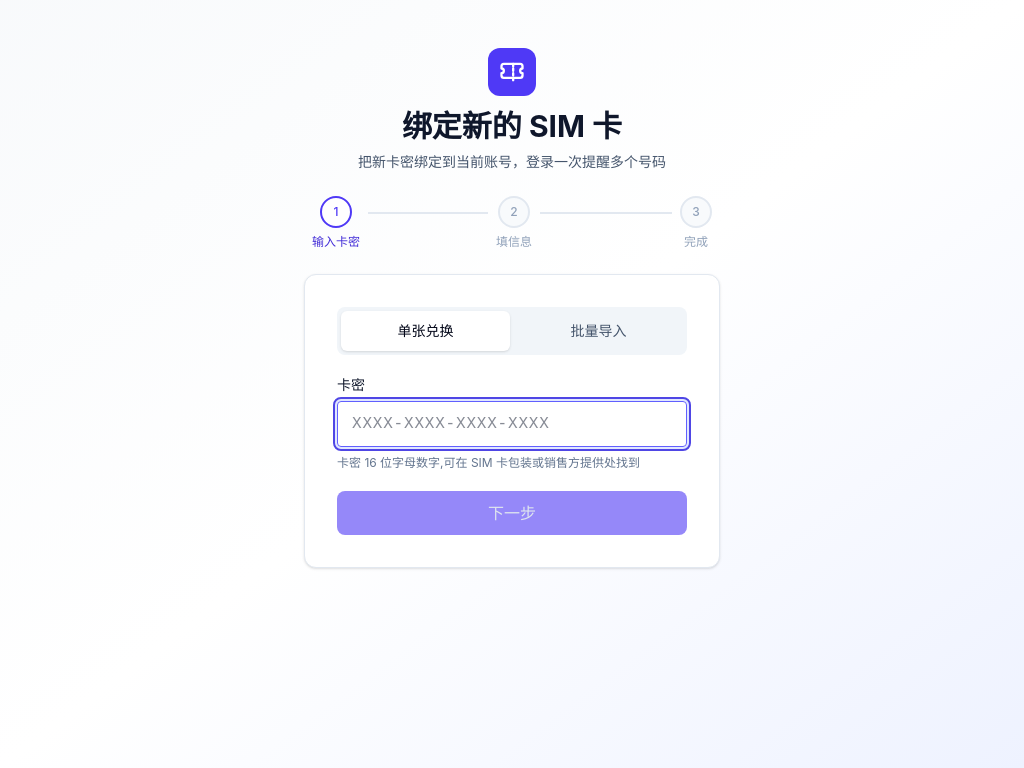
<RedeemExperience /> › 已登录用户可切换到宽屏批量导入流程
The image size is (1024, 768).
Expected: the heading "绑定新的 SIM 卡" is shown, left=402, top=108, right=622, bottom=144
Click the tab "批量导入" at {"x": 598, "y": 331}, box left=514, top=311, right=683, bottom=351
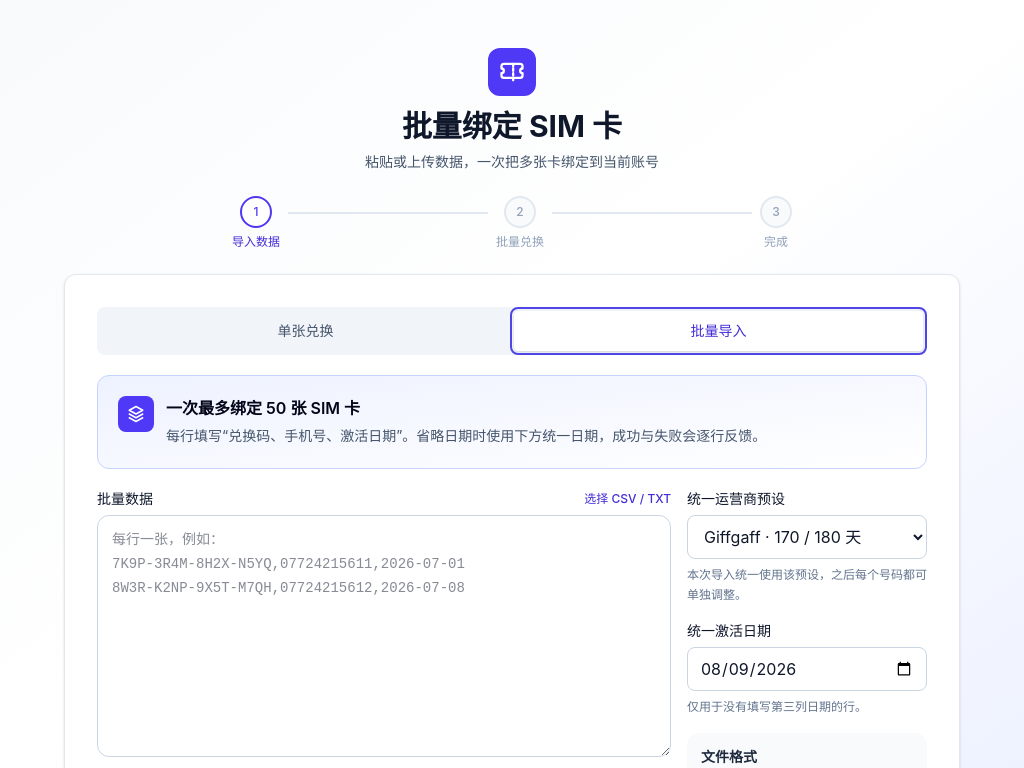
Expected: the heading "批量绑定 SIM 卡" is shown, left=402, top=108, right=622, bottom=144
Expected: the text box labelled "批量数据" is shown, left=97, top=515, right=671, bottom=757
Expected: the list named "兑换进度:第 1 步 / 共 3 步" shows "导入数据", left=232, top=234, right=280, bottom=249
